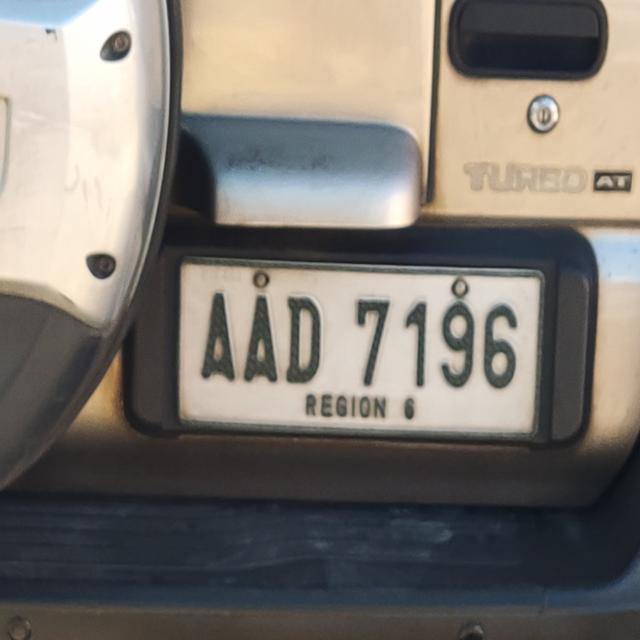plate: (170, 248, 552, 451)
